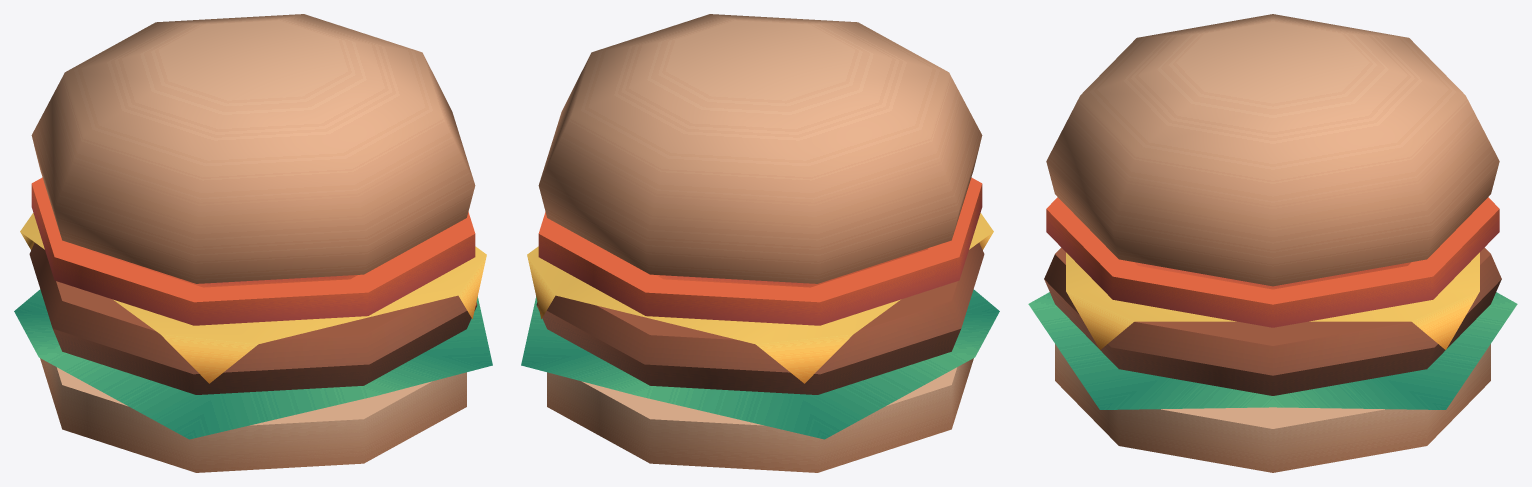
The model's file is burger.glb.
3 renders of one model, left to right at view 1: azimuth 30°, elevation 25°; view 2: azimuth 150°, elevation 25°; view 3: azimuth 270°, elevation 25°, orthographic.
Parts seen in each view (by area): view 1: bun-bottom; view 2: bun-bottom; view 3: bun-bottom.
Part boxes in pixels (<box>): bun-bottom: <box>14,14,492,472</box>; bun-bottom: <box>521,14,999,472</box>; bun-bottom: <box>1028,14,1517,472</box>.
Bounding box in the file's own units: 0.3066 × 0.22 × 0.3066.
1 material, 1 textured.
